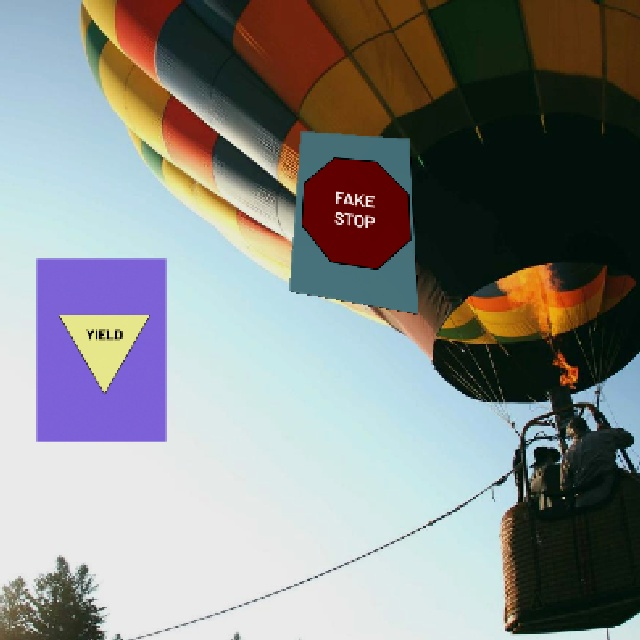FAKE_STOP: (298, 154, 411, 274)
YIELD: (57, 313, 149, 393)
